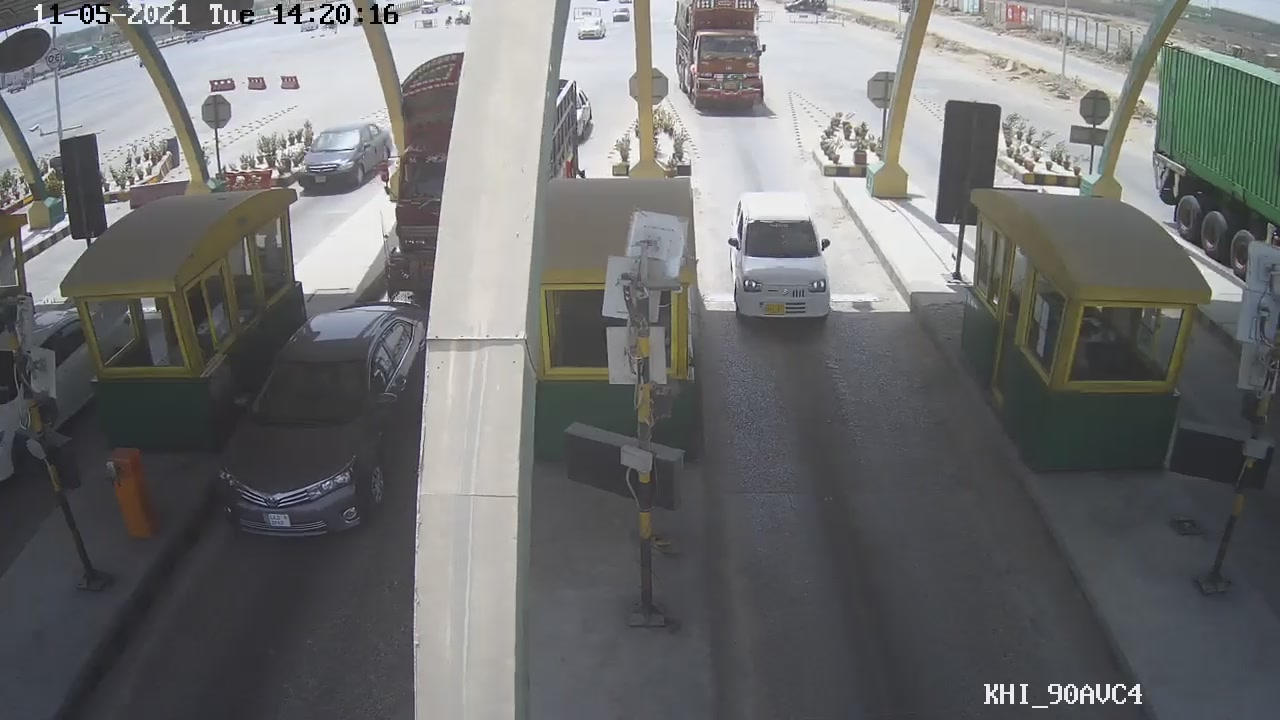F1: (721, 189, 834, 330)
